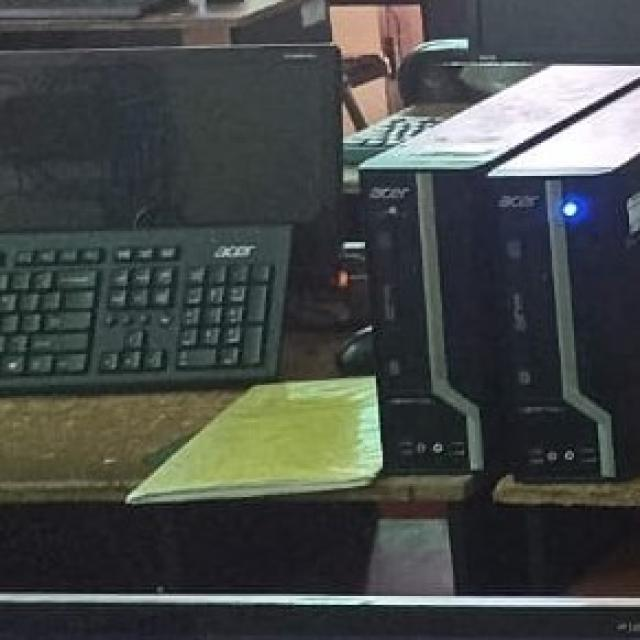onscreen: (0, 48, 342, 282)
